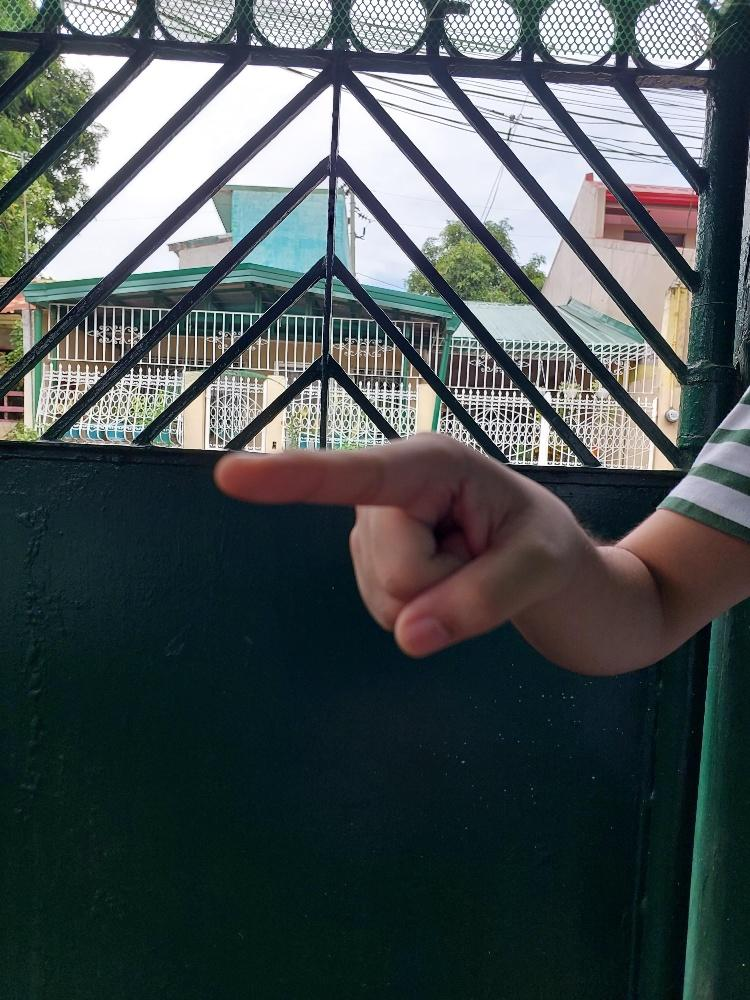z: (210, 428, 584, 660)
